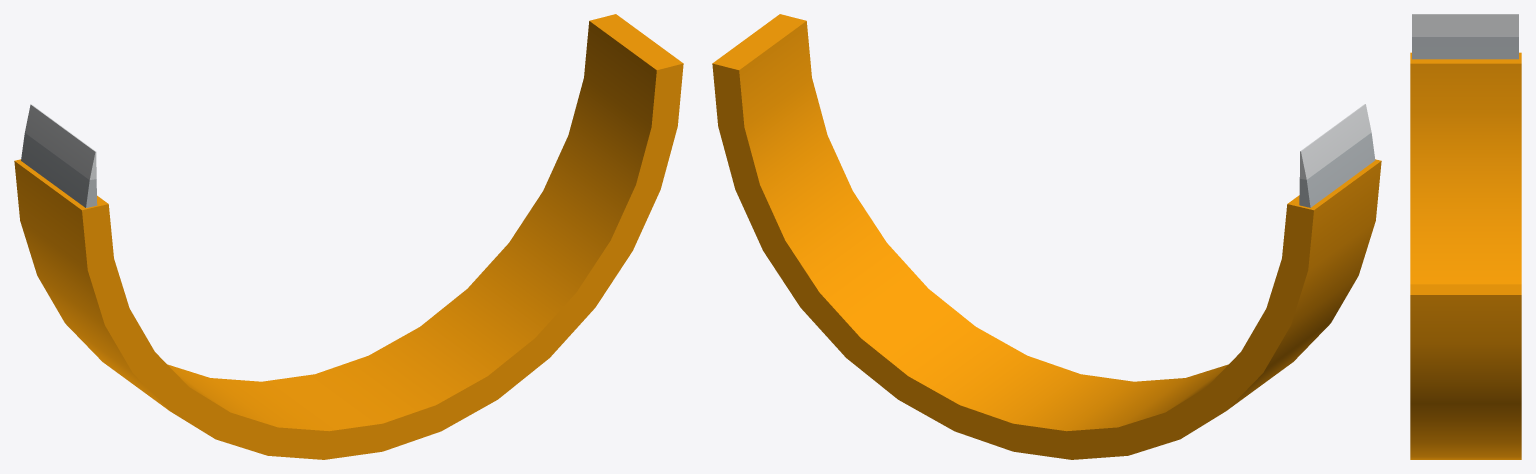
The model's file is trap_17.fbx.
3 views of the same model, side by side, from view 1: azimuth 30°, elevation 25°; view 2: azimuth 150°, elevation 25°; view 3: azimuth 270°, elevation 25° (orthographic). The views are drawn at different scales.
Visible parts, largest first — view 1: trap; view 2: trap; view 3: trap.
Boxes of the visible parts, bbox=[...] form: trap: bbox=[14, 14, 683, 459]; trap: bbox=[712, 14, 1381, 459]; trap: bbox=[1410, 14, 1521, 459].
Size of the model in its own units: 2354 by 1379 by 458.
1 material, 1 textured.
